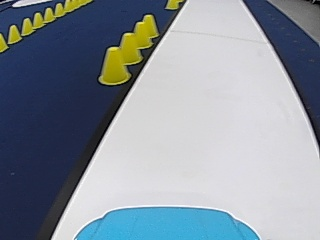cone: (97, 45, 129, 85), (115, 31, 142, 64), (130, 19, 150, 49), (140, 13, 159, 38), (7, 24, 21, 43), (21, 17, 33, 35), (0, 32, 9, 52), (32, 11, 43, 27), (53, 2, 64, 16), (43, 7, 54, 21), (165, 0, 179, 9)
